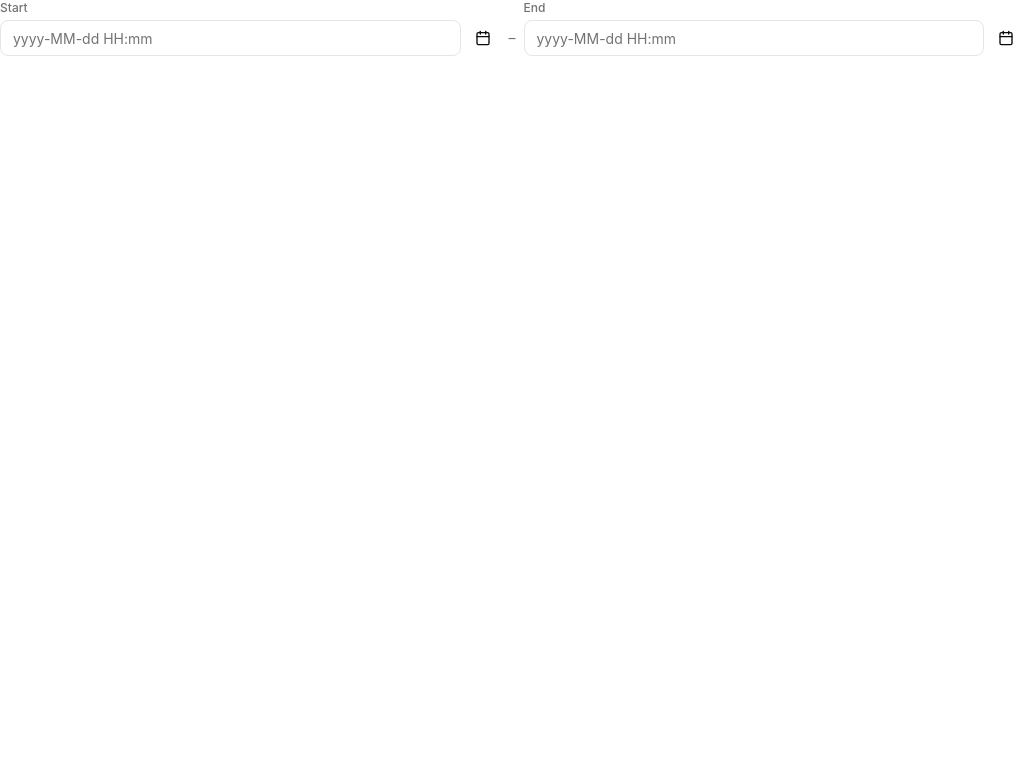
Test: DateTimeRangePicker › shows timezone when showTimezone is true
Click the 1st button named "Open calendar" at point(482, 38), box [464, 20, 500, 56]
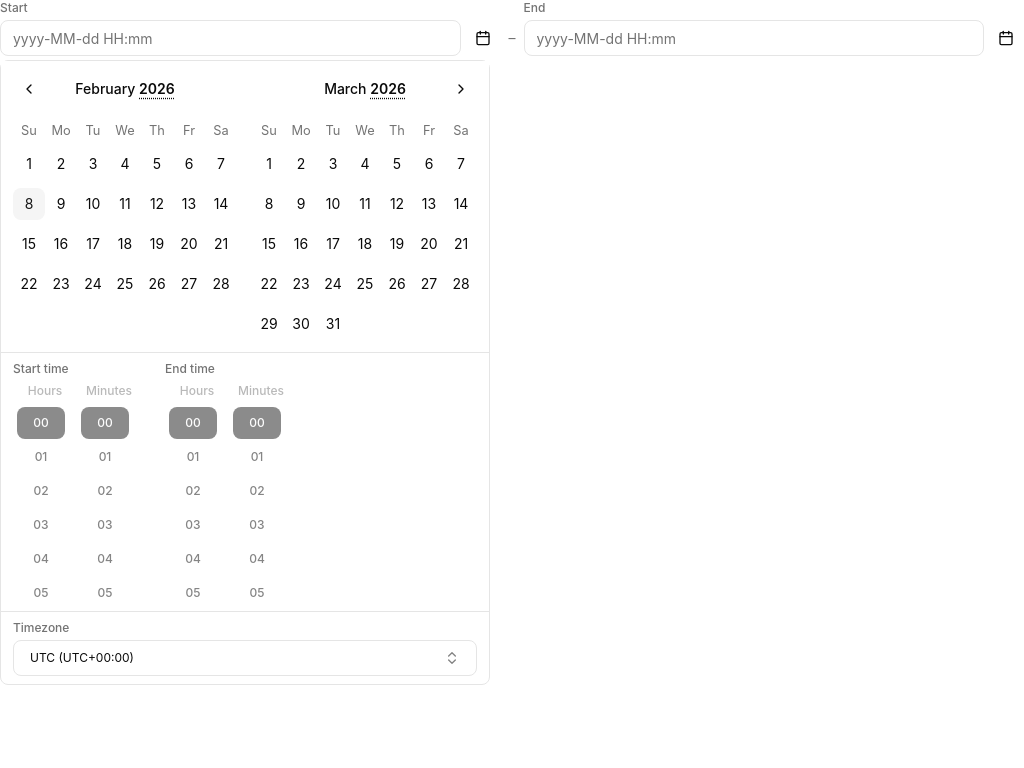
Now the text "Timezone" is shown, box [13, 620, 69, 635]
